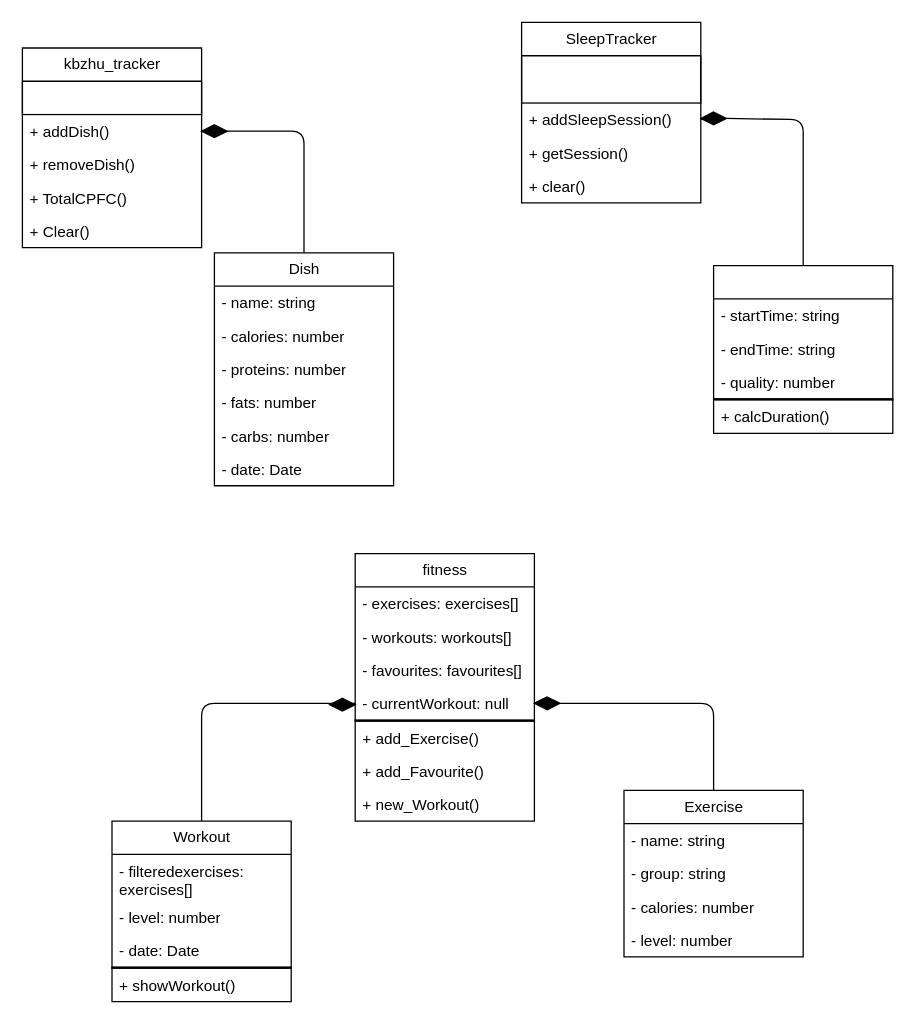
Image size: 915x1028. Some labels were removed from this diagram. The box of each missing label's shape, as (x1, y1, x2, y2) in pixels:
- dishes: cpfc[]: (21, 80, 202, 115)
- sleepSessions: SleepSession[]: (520, 54, 701, 103)
SleepSession: (712, 264, 893, 433)
